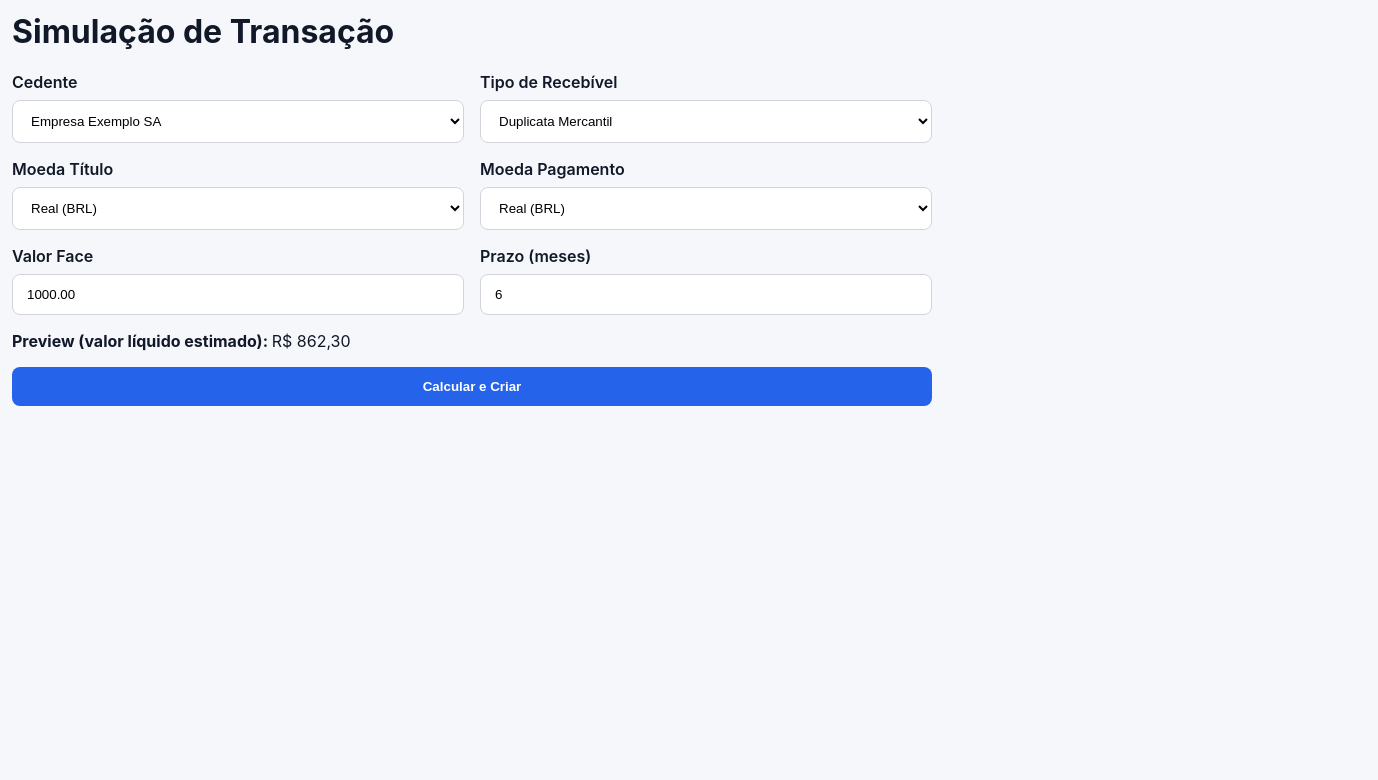
it: TransacaoPage › shows a persistent error toast when the API rejects the submit
Click the button "Calcular e Criar" at (472, 387), box [12, 367, 932, 406]
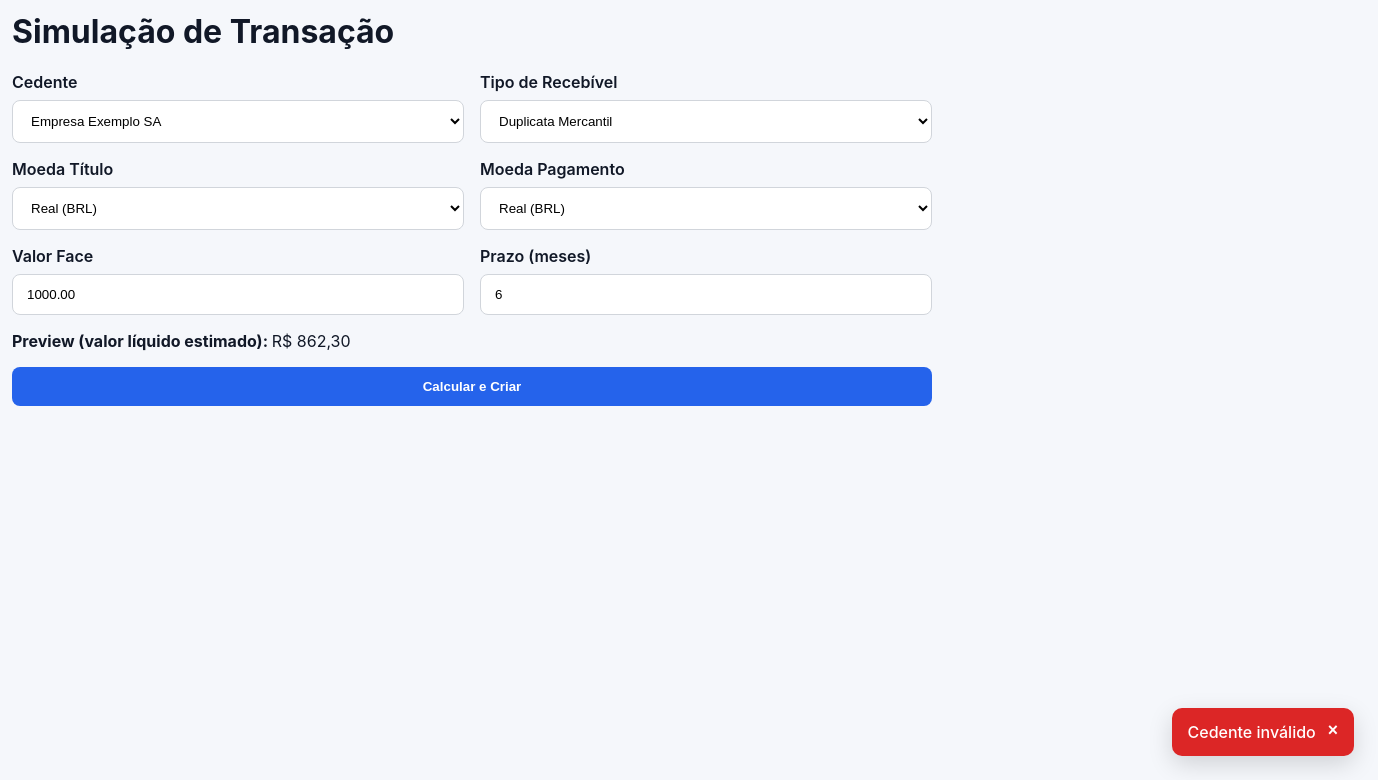
expect the text "Cedente inválido" is shown: met, box [1188, 722, 1316, 742]
Click the button named "fechar notificação" at (1333, 731), box [1328, 722, 1338, 740]
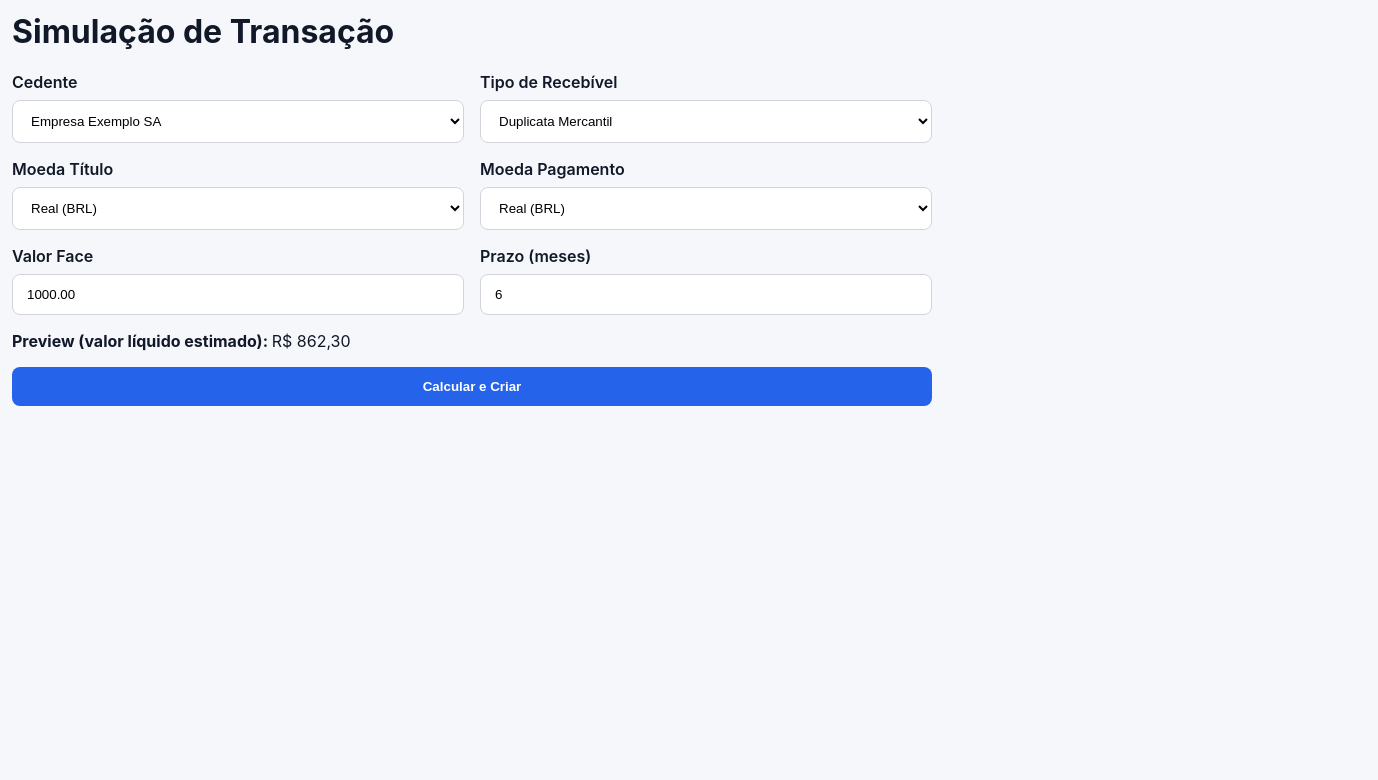
expect the text "Cedente inválido" is gone: met
